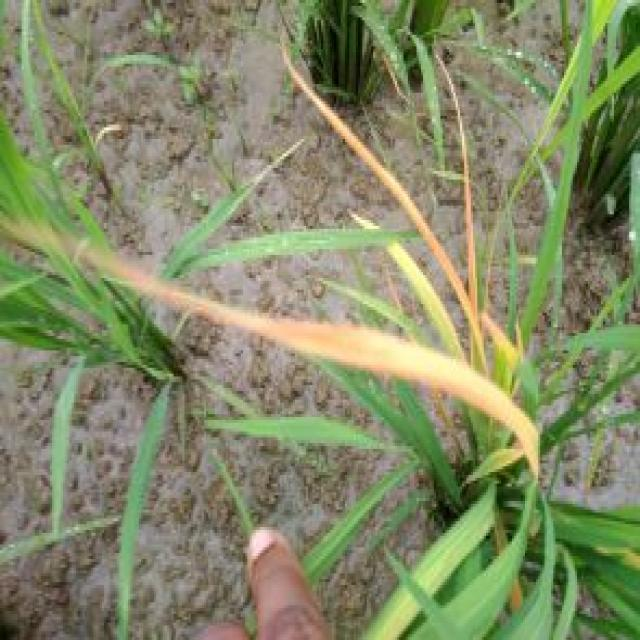Tungro: (34, 194, 554, 470), (278, 19, 508, 395)
